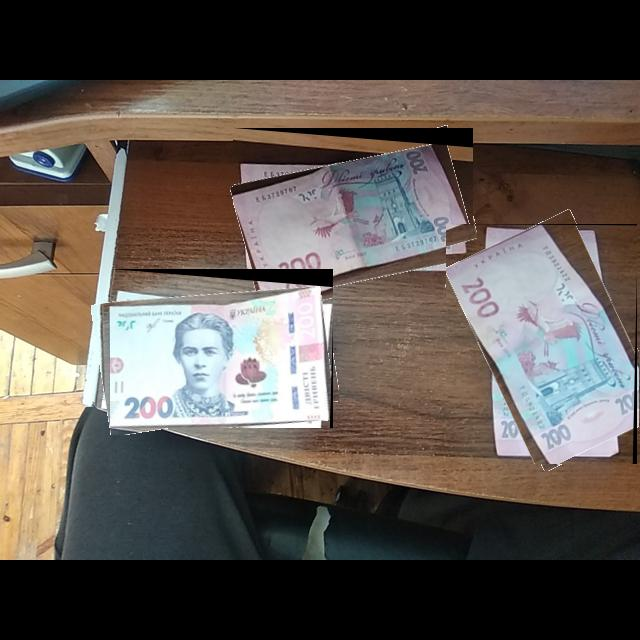200uah: (446, 225, 636, 465), (233, 142, 474, 298), (110, 283, 332, 429)
